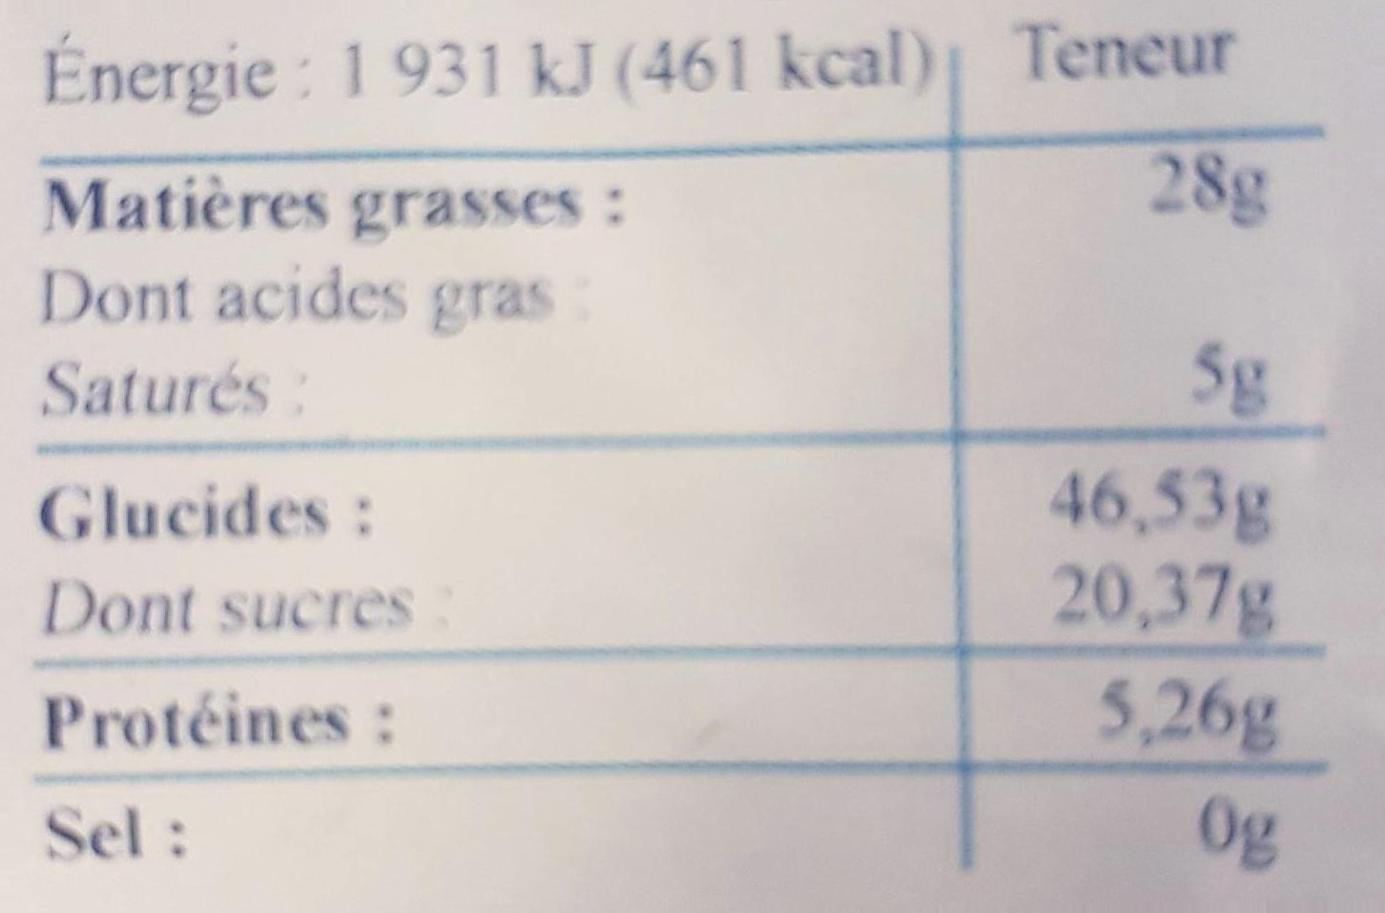column: (37, 29, 930, 876), (1013, 23, 1292, 880)
line: (47, 267, 1276, 419), (46, 470, 1272, 548), (51, 161, 1282, 237), (45, 681, 1283, 753), (49, 32, 1270, 104), (48, 800, 1281, 871), (47, 569, 1277, 637)
table: (1, 1, 1383, 913)
